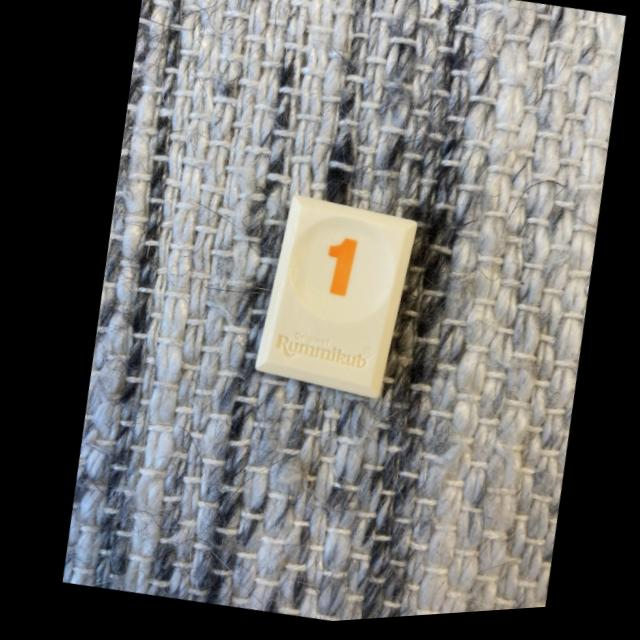orange_1: (250, 199, 412, 402)
